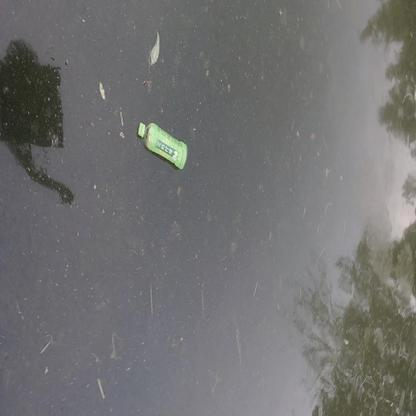plastic bottle: (137, 121, 188, 170)
